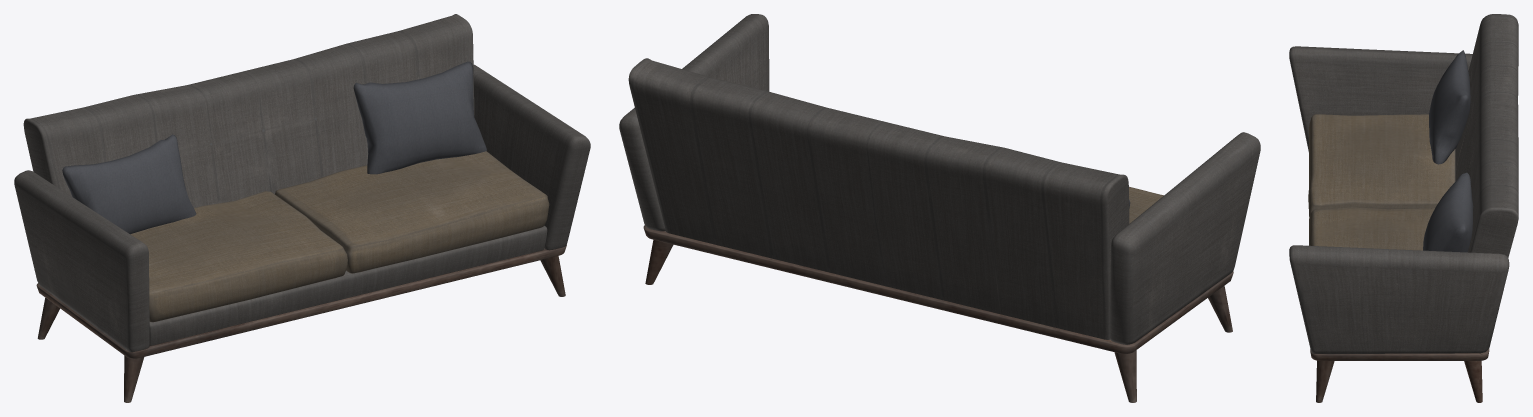
File: modern-sofa.glb
3 renders of one model, left to right at view 1: azimuth 30°, elevation 25°; view 2: azimuth 150°, elevation 25°; view 3: azimuth 270°, elevation 25°, orthographic. The views are drawn at different scales.
Parts seen in each view (by area): view 1: Object_2; view 2: Object_2; view 3: Object_2.
Boxes of the visible parts, box(x1,y1,x2,y2) form: Object_2: box(14, 14, 590, 402); Object_2: box(619, 14, 1260, 402); Object_2: box(1289, 14, 1518, 402).
Bounding box in the file's own units: 93.67 × 40.01 × 43.28.
1 material, 1 textured.
